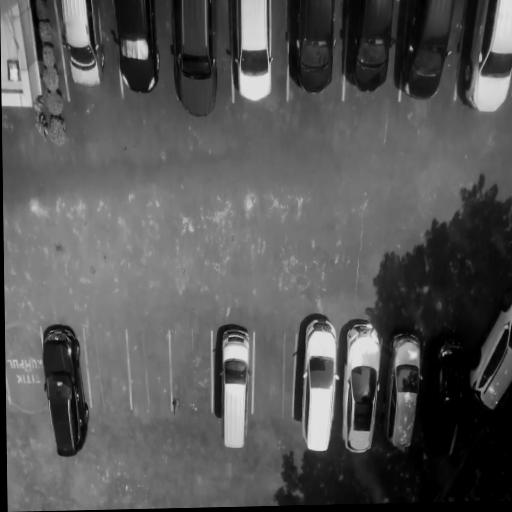Car: (453, 0, 512, 121), (464, 280, 512, 422), (44, 323, 91, 464), (166, 0, 217, 127), (298, 312, 340, 457), (341, 319, 384, 455), (399, 0, 457, 99), (426, 330, 467, 463), (213, 325, 253, 454), (285, 0, 335, 102), (225, 0, 274, 104), (386, 331, 425, 454), (343, 0, 392, 95), (55, 0, 105, 91), (114, 0, 159, 91)
Space Available: (126, 318, 170, 427), (254, 325, 295, 434), (170, 322, 213, 425), (85, 322, 126, 426), (6, 331, 45, 426)
